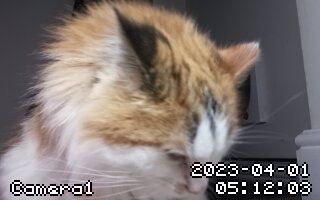clara: (20, 8, 260, 198)
